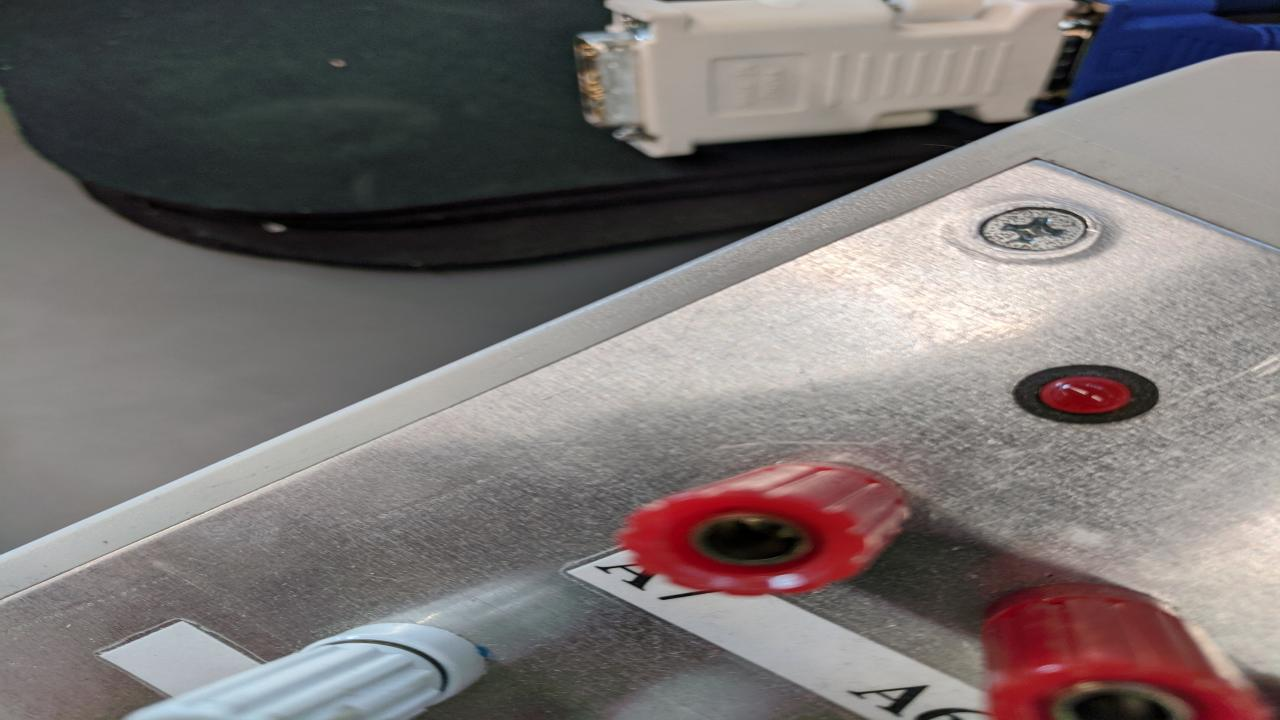CRS: (981, 207, 1088, 250)
